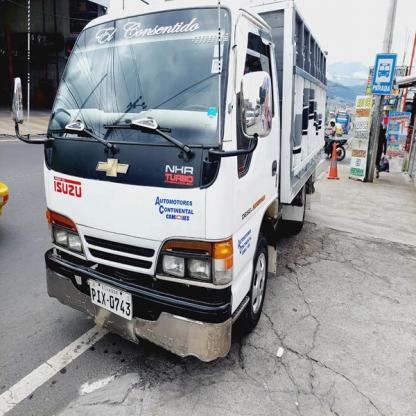Placa: (84, 275, 136, 322)
